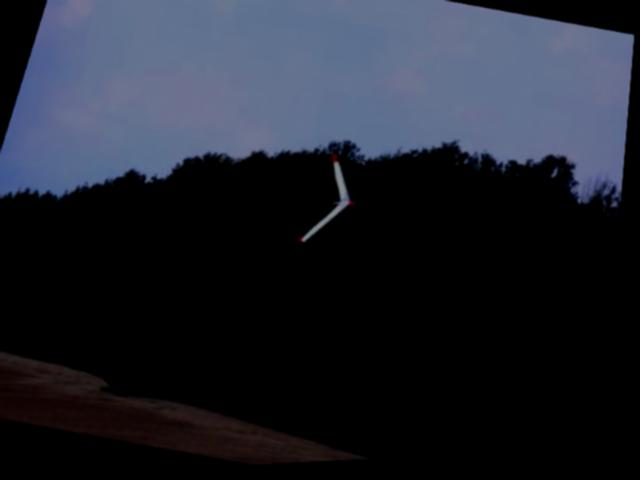flying wing: (294, 150, 376, 262)
